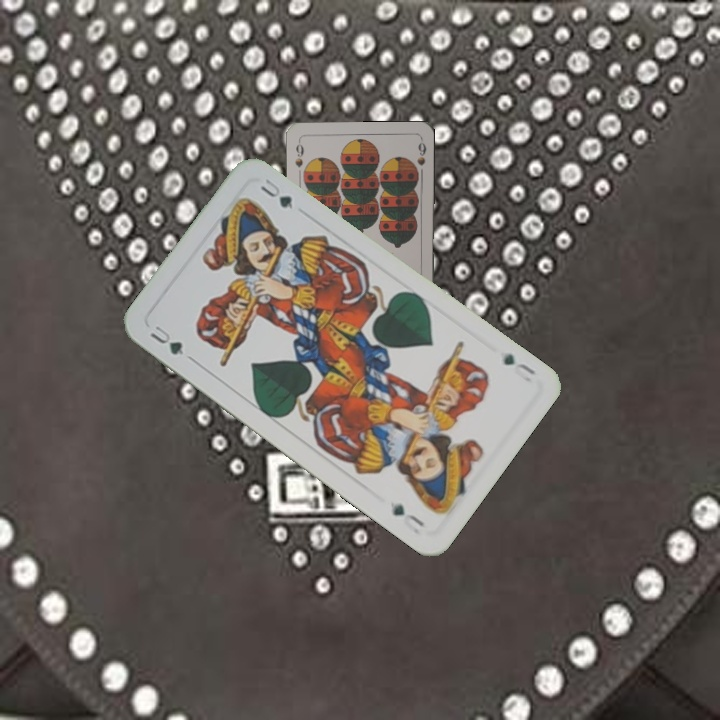GU: (146, 320, 186, 358), (499, 349, 539, 378)
S9: (291, 137, 306, 170)
